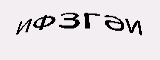Г: (83, 12, 101, 30)
З: (57, 11, 81, 30)
И: (125, 16, 144, 36), (14, 17, 31, 35)
Ф: (32, 13, 55, 31)
Ә: (102, 12, 124, 32)
